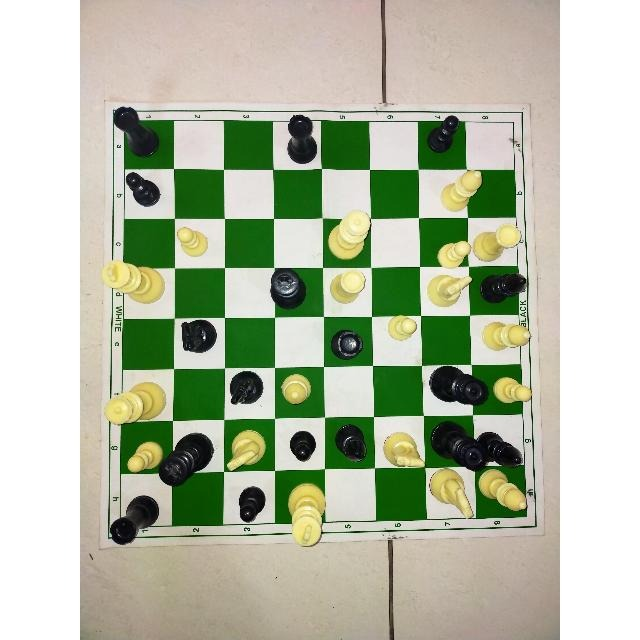black-bishop: (476, 430, 526, 472), (478, 269, 529, 305), (333, 425, 370, 463)
black-king: (156, 430, 214, 488), (269, 267, 307, 311)
black-knight: (177, 318, 219, 353), (228, 369, 266, 407)
black-pawn: (425, 113, 463, 155), (121, 171, 162, 207), (235, 486, 269, 522), (287, 428, 318, 463)
black-queen: (430, 419, 488, 471), (428, 362, 487, 406)
black-rook: (107, 494, 160, 546), (111, 106, 161, 158), (286, 113, 318, 165), (327, 325, 366, 362)
white-bishop: (479, 470, 531, 515), (438, 165, 485, 214), (481, 317, 533, 353), (278, 371, 317, 408)
white-king: (100, 256, 166, 305), (286, 482, 325, 546)
white-knight: (427, 469, 477, 518), (424, 271, 474, 311), (223, 427, 267, 472), (381, 428, 426, 471)
white-pawn: (124, 437, 163, 474), (491, 374, 533, 408), (176, 224, 212, 260), (435, 236, 471, 270), (383, 312, 422, 343)
white-queen: (104, 379, 170, 427), (325, 208, 373, 263)
white-rook: (472, 224, 524, 263), (326, 270, 368, 306)
